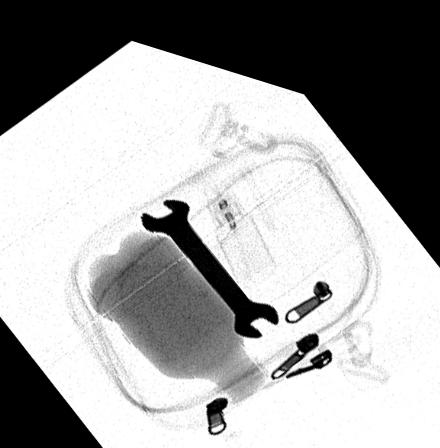Wrench: (138, 188, 278, 323)
